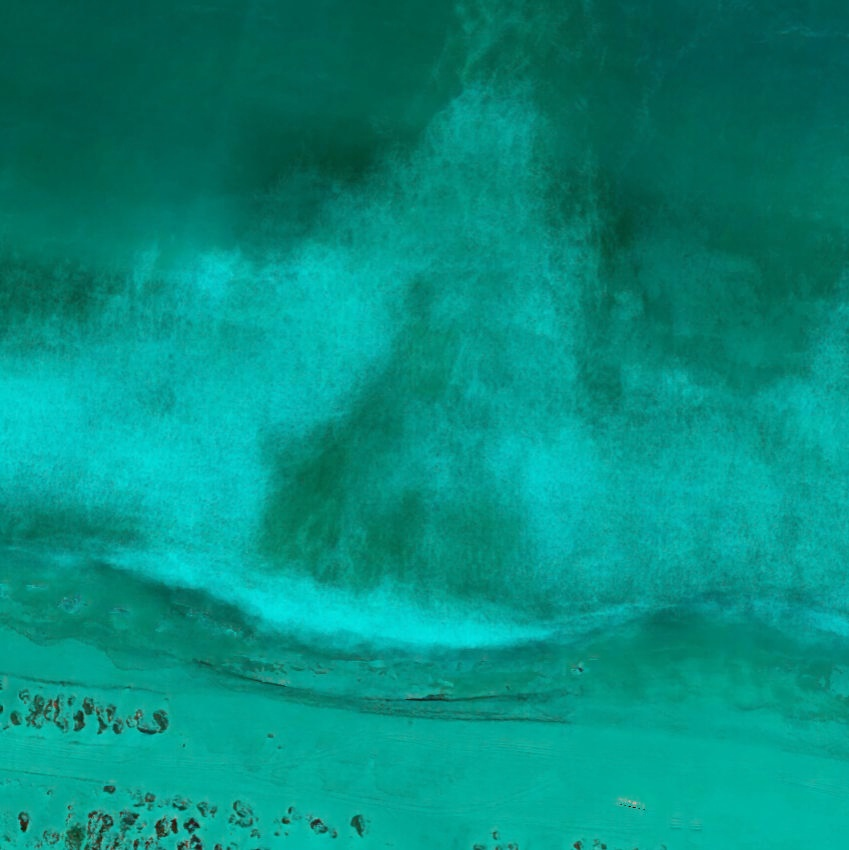rip_current: (304, 58, 587, 586)
